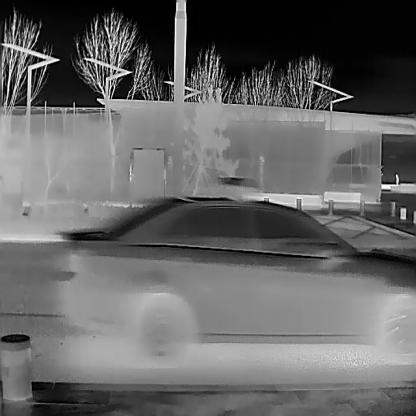car: (53, 174, 415, 370)
